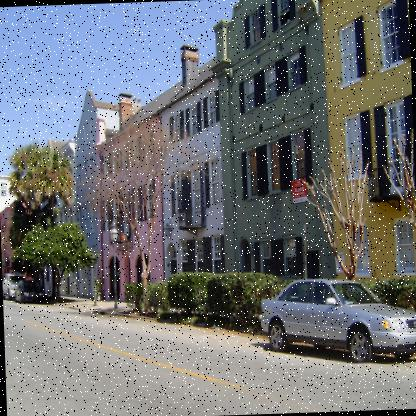Car: (260, 275, 415, 369), (15, 280, 44, 303), (3, 273, 27, 300)
